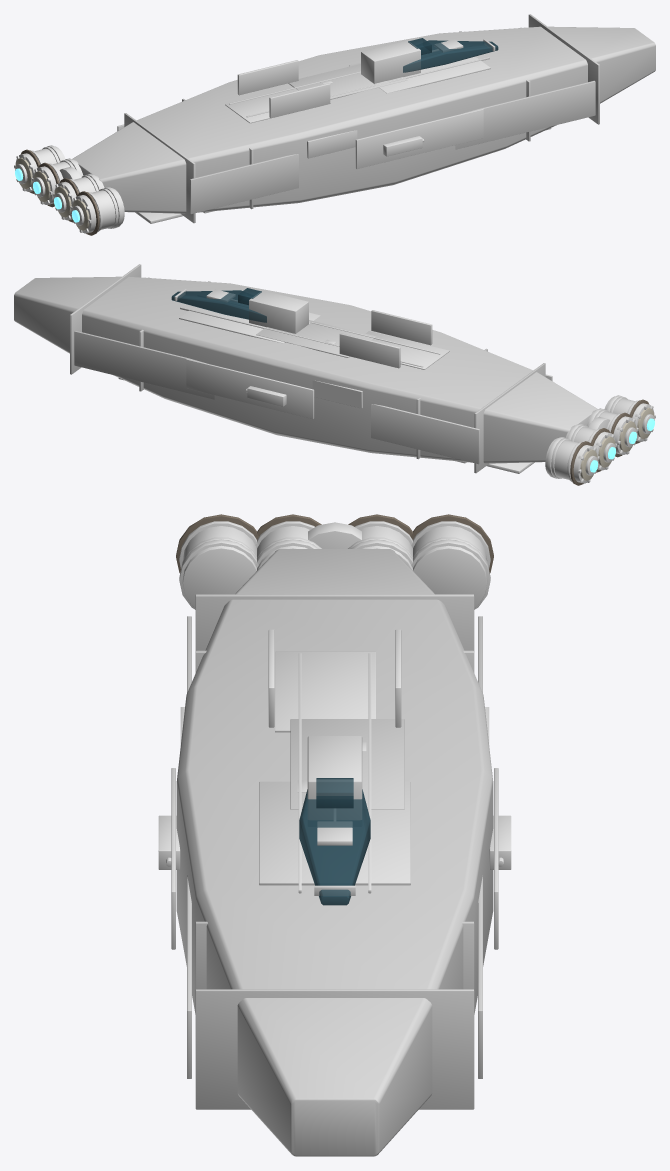
File: leviathan_production_v1_lod1.glb
3 views of the same model, one above another, from view 1: azimuth 30°, elevation 25°; view 2: azimuth 150°, elevation 25°; view 3: azimuth 270°, elevation 25° (orthographic). The views are drawn at different scales.
Visible parts, largest first — view 1: LOD1_Hull, LOD1_Armor, LOD1_Mechanical, LOD1_Canopy, LOD1_Ceramic, LOD1_Radiator, LOD1_Thruster; view 2: LOD1_Hull, LOD1_Armor, LOD1_Mechanical, LOD1_Canopy, LOD1_Ceramic, LOD1_Radiator, LOD1_Thruster; view 3: LOD1_Hull, LOD1_Armor, LOD1_Mechanical, LOD1_Canopy, LOD1_Radiator.
Part boxes in pixels (x1=…): LOD1_Hull: x1=72, y1=14, x2=655, y2=223; LOD1_Armor: x1=30, y1=39, x2=495, y2=232; LOD1_Mechanical: x1=14, y1=57, x2=489, y2=233; LOD1_Canopy: x1=403, y1=38, x2=498, y2=72; LOD1_Ceramic: x1=15, y1=157, x2=89, y2=230; LOD1_Radiator: x1=20, y1=149, x2=99, y2=235; LOD1_Thruster: x1=15, y1=168, x2=79, y2=222; LOD1_Hull: x1=14, y1=264, x2=597, y2=473; LOD1_Armor: x1=174, y1=289, x2=639, y2=482; LOD1_Mechanical: x1=180, y1=307, x2=655, y2=483; LOD1_Canopy: x1=171, y1=288, x2=266, y2=322; LOD1_Ceramic: x1=580, y1=407, x2=654, y2=480; LOD1_Radiator: x1=570, y1=399, x2=649, y2=485; LOD1_Thruster: x1=590, y1=418, x2=654, y2=472; LOD1_Hull: x1=176, y1=549, x2=493, y2=1156; LOD1_Armor: x1=166, y1=521, x2=503, y2=949; LOD1_Mechanical: x1=158, y1=514, x2=511, y2=893; LOD1_Canopy: x1=299, y1=778, x2=370, y2=905; LOD1_Radiator: x1=176, y1=514, x2=493, y2=573.
Size of what is drawn, in the model's own units: 27.98 by 4.68 by 7.14.
